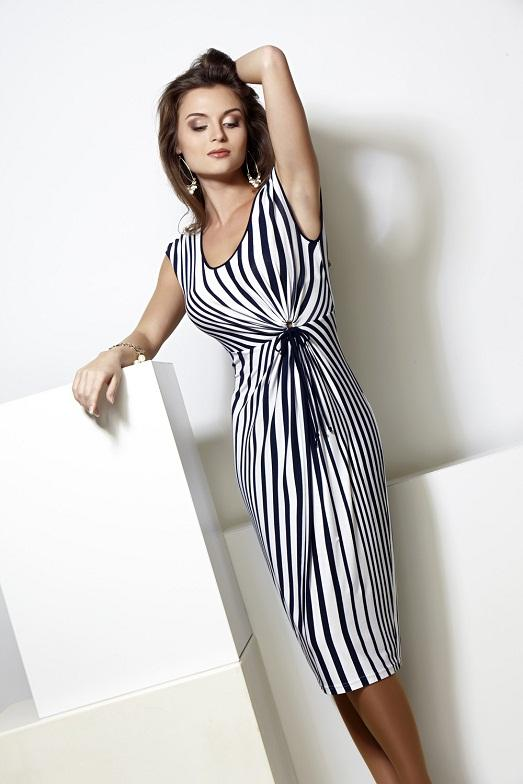striped: (156, 158, 423, 703)
